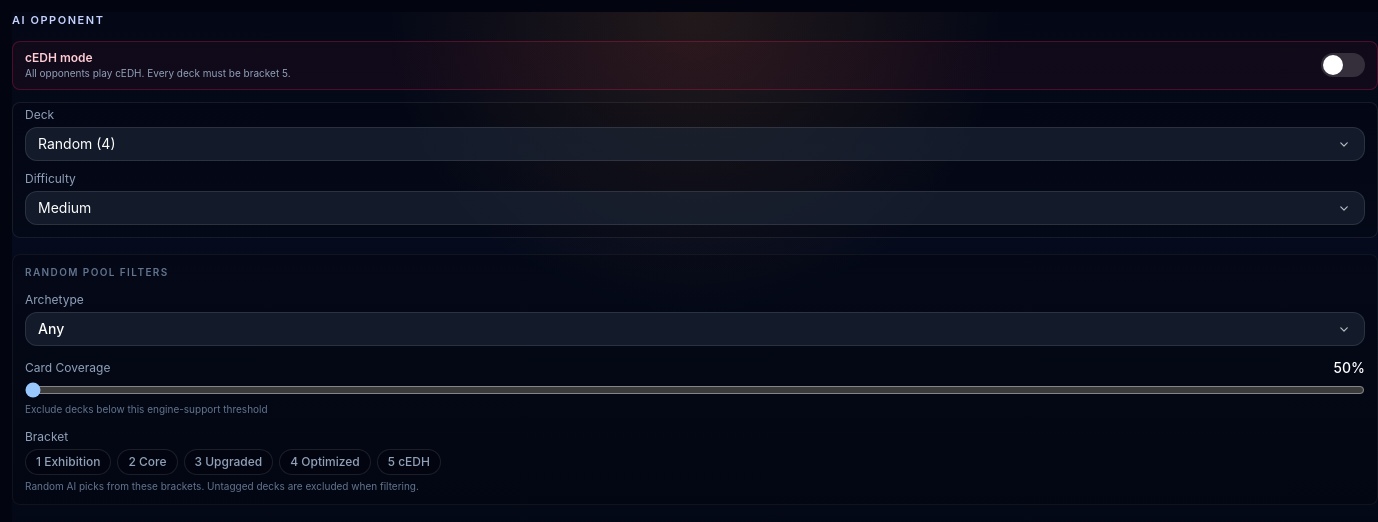
Test: AiOpponentConfig — bracket filter › selecting brackets {2, 4} narrows the pool to those candidates and excludes untagged
This screenshot has width=1378, height=522.
Click the button "2 Core".
click(147, 462)  # box [117,448,178,474]
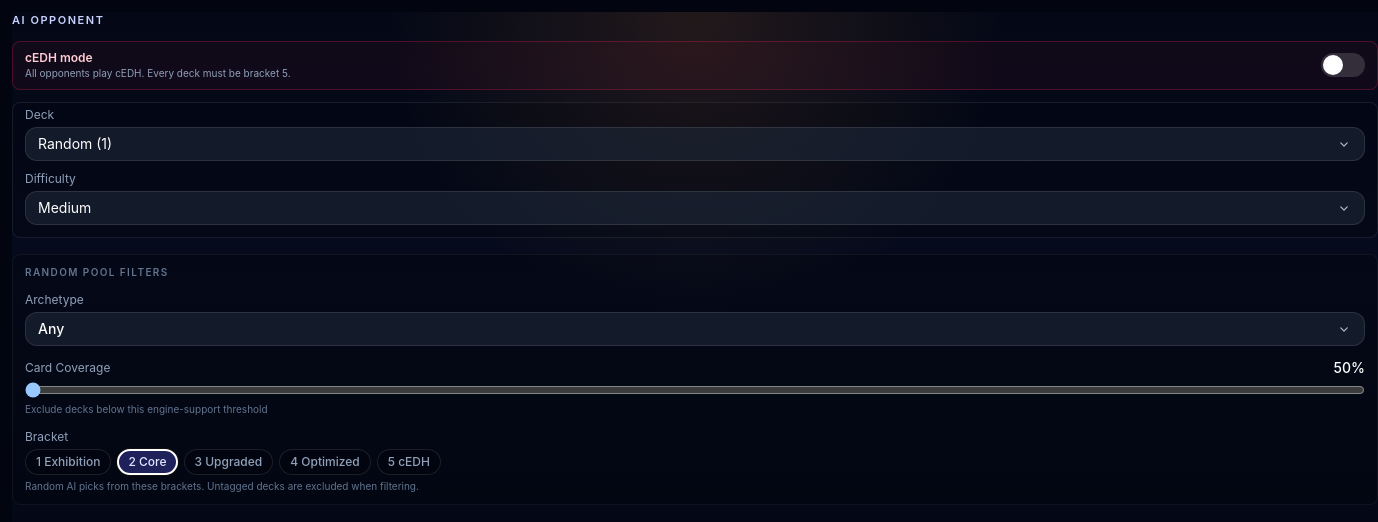
Click the button "4 Optimized".
click(325, 462)  # box [279,448,371,474]
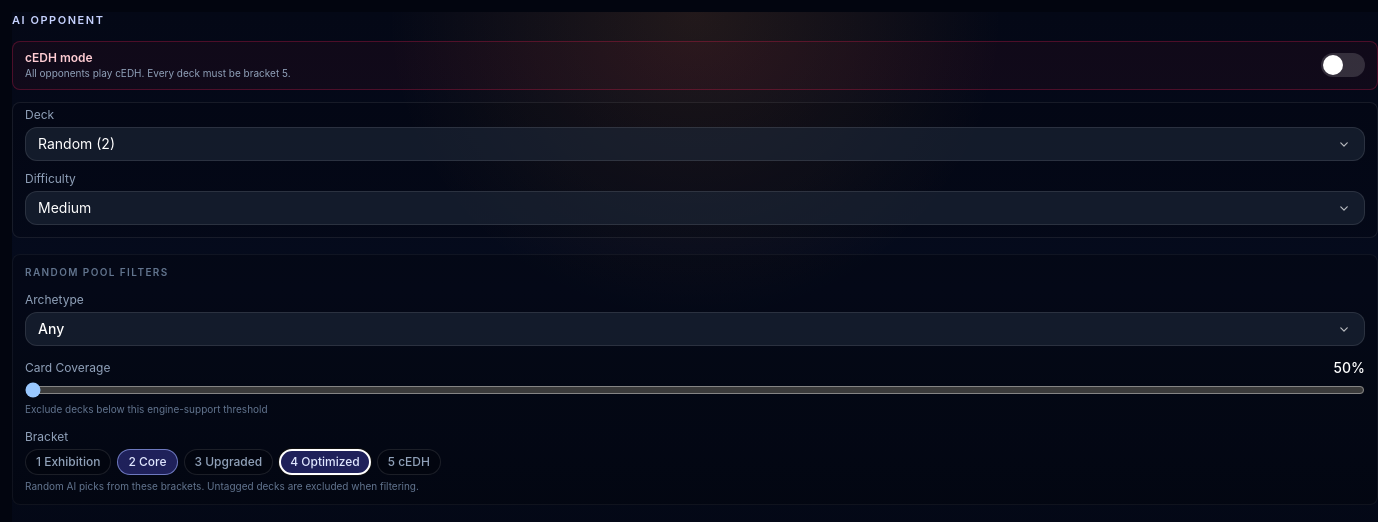
Now the button with aria-label "Deck" reads "Random (2)", box [25,126,1365,160]
